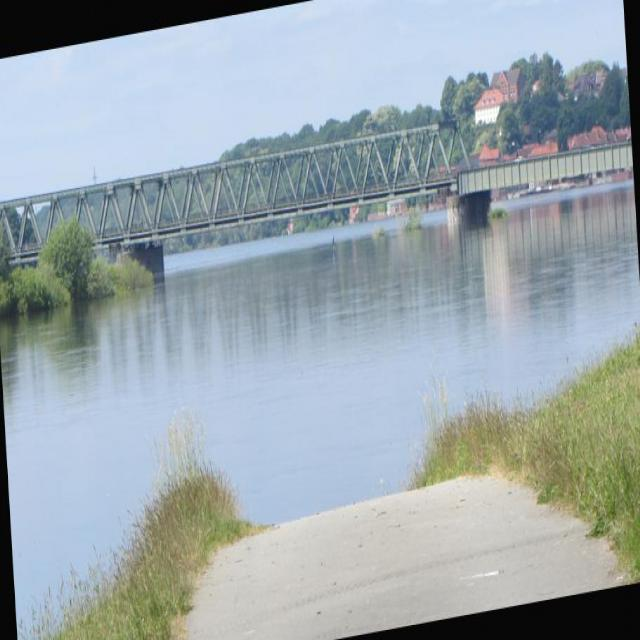flood: (0, 169, 639, 566)
